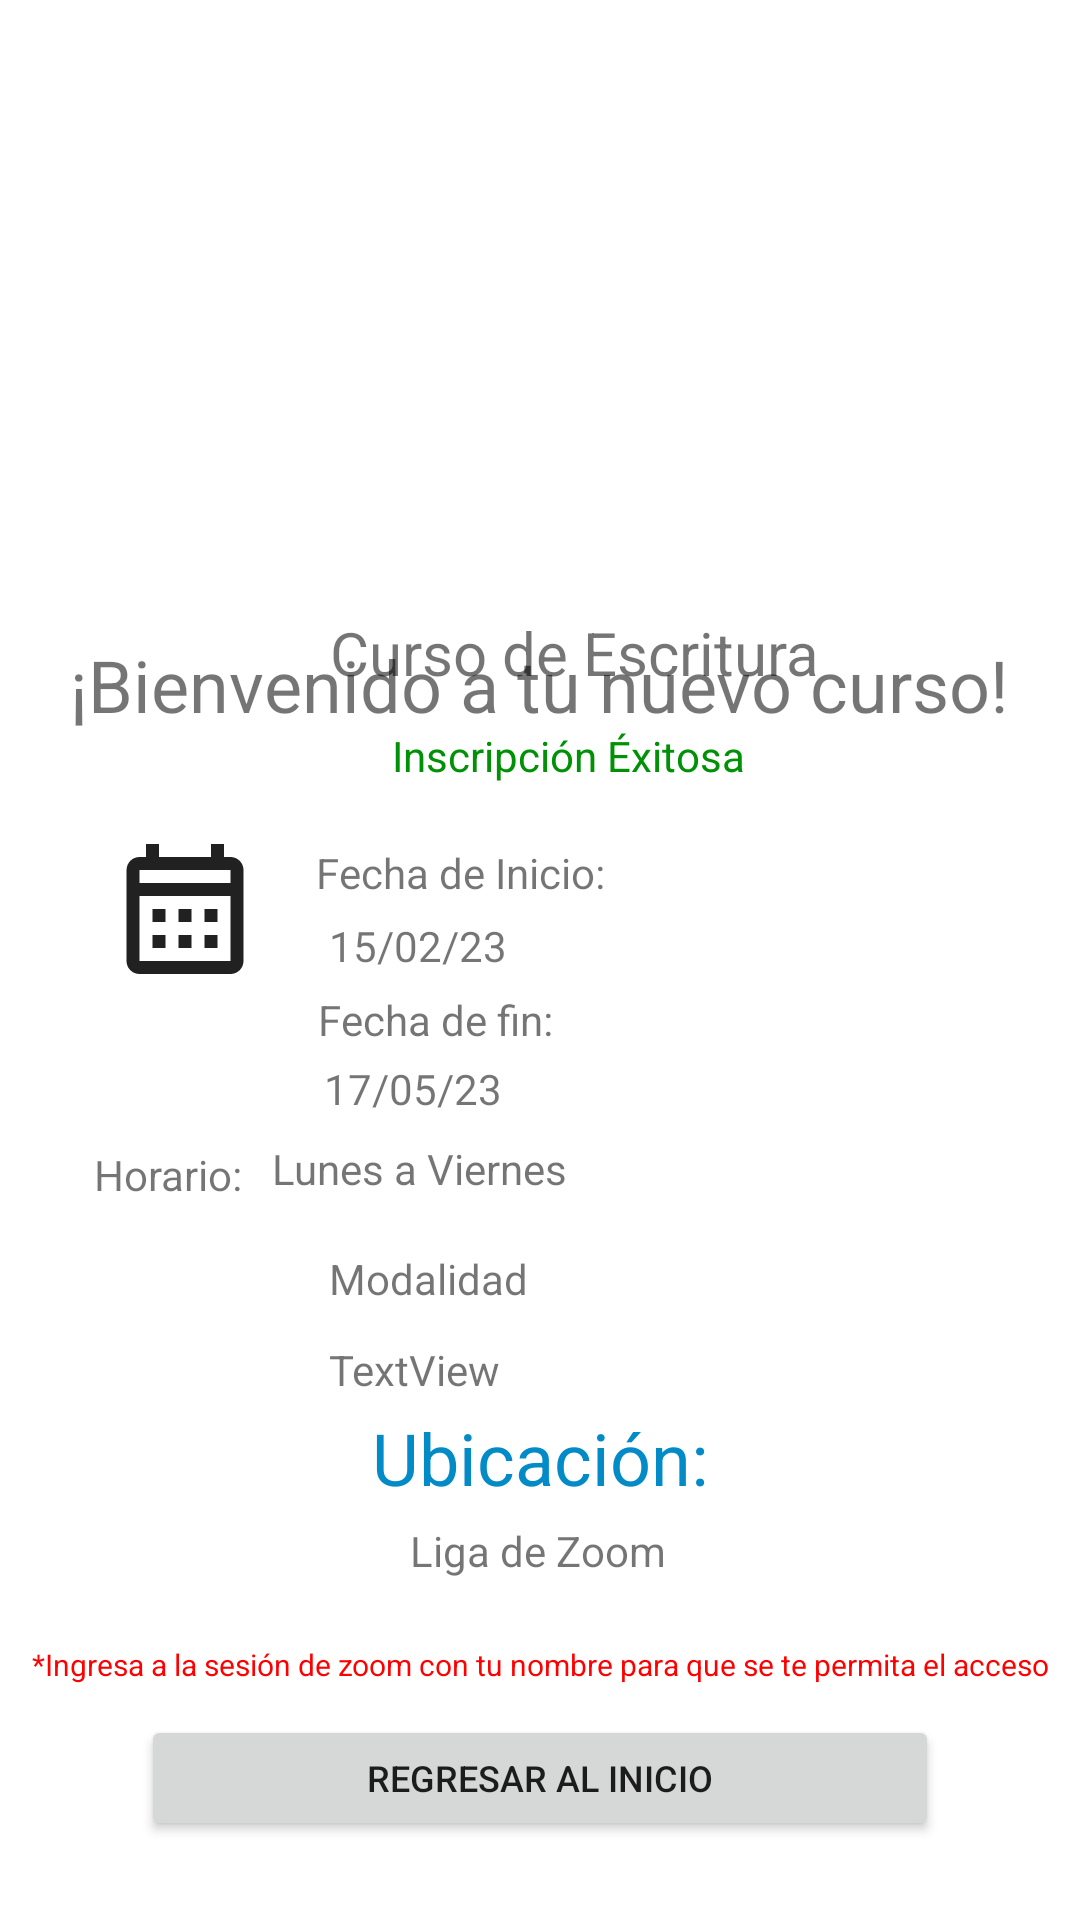

Icon bounding boxes for this 1080×1920 phone screenshot, format region(x1, y1, x2, y2):
calendario: region(126, 844, 244, 974)
